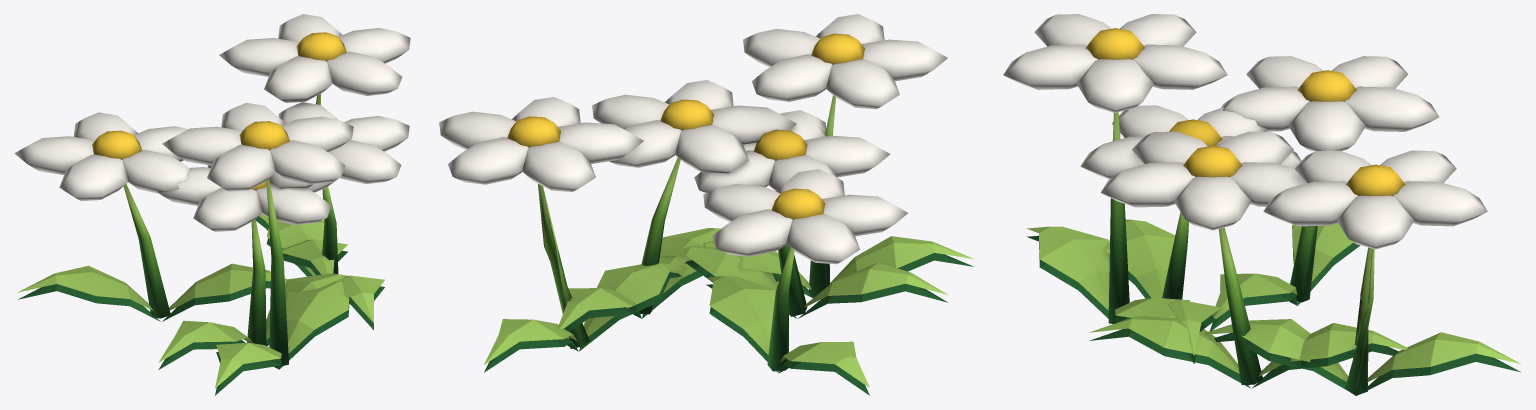
File: Env_Flowers_1.glb
3 views of the same model, side by side, from view 1: azimuth 30°, elevation 25°; view 2: azimuth 150°, elevation 25°; view 3: azimuth 270°, elevation 25° (orthographic). The views are drawn at different scales.
Parts seen in each view (by area): view 1: Env_Flowers_1.001; view 2: Env_Flowers_1.001; view 3: Env_Flowers_1.001.
Part boxes in pixels (box(x1,y1,x2,y2)): Env_Flowers_1.001: box(14, 14, 410, 395); Env_Flowers_1.001: box(439, 14, 974, 395); Env_Flowers_1.001: box(1003, 14, 1521, 395).
Bounding box in the file's own units: 1.6 × 0.9609 × 1.57.
1 material, 1 textured.
